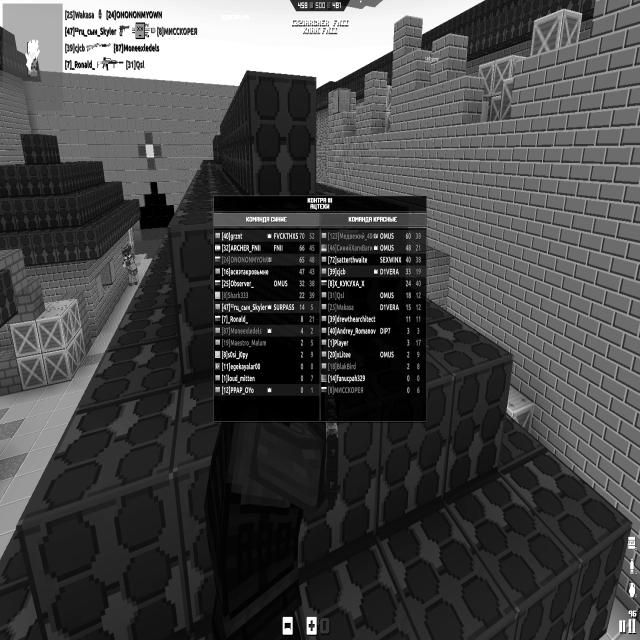Head: (122, 244, 133, 260)
Player: (120, 243, 138, 286)
